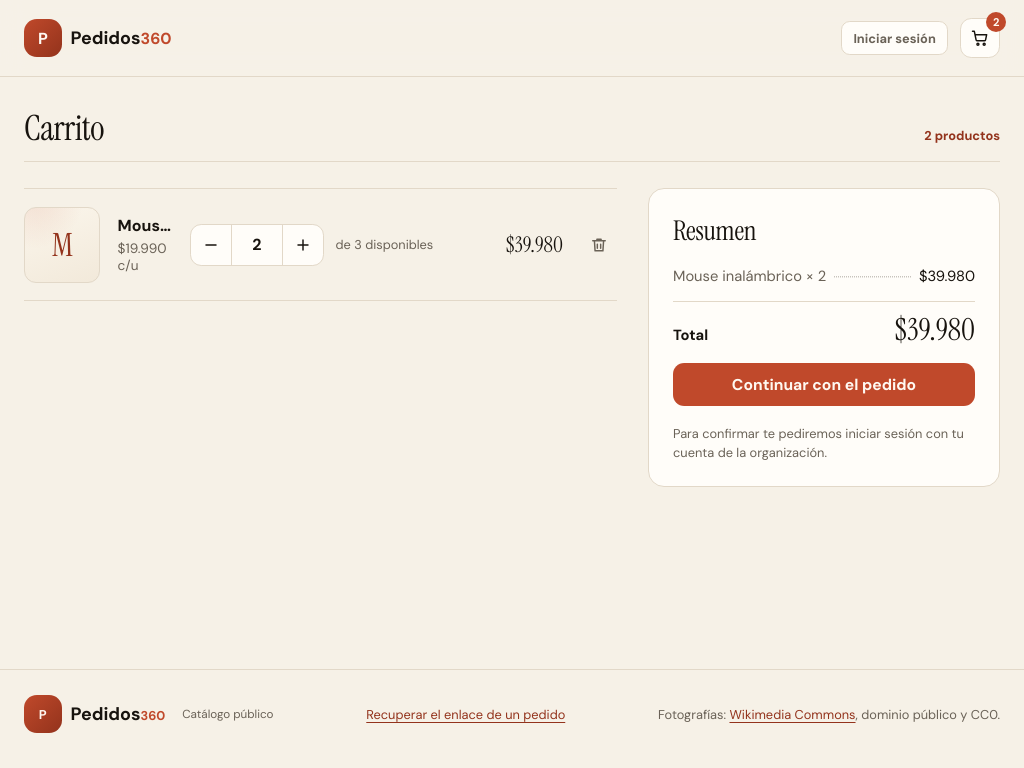
Test case: CartPage › cambia la cantidad sin pasar el stock
The image size is (1024, 768).
Click the button named "Agregar una unidad".
click(302, 245)  # box [282,225,322,265]
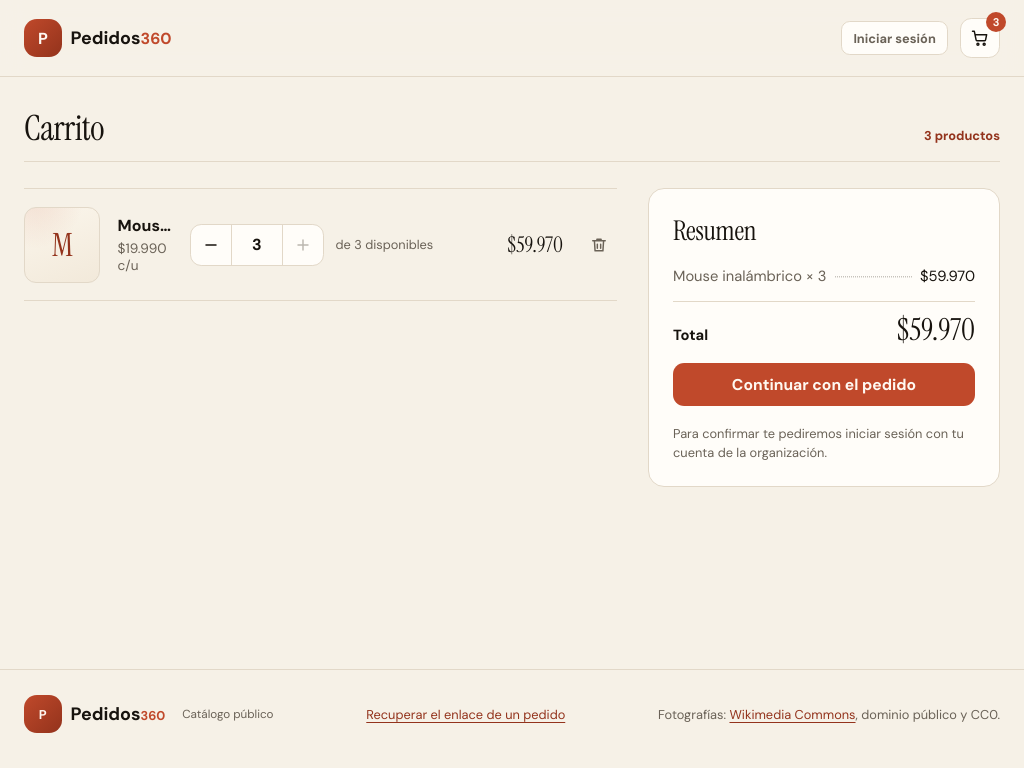
Expected: the number field named "Cantidad" holds "3", [231,225,282,265]
Expected: the button named "Agregar una unidad" is disabled, [282,225,322,265]
